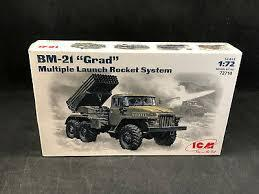MIL_SAM_TEL: (64, 72, 182, 149)
